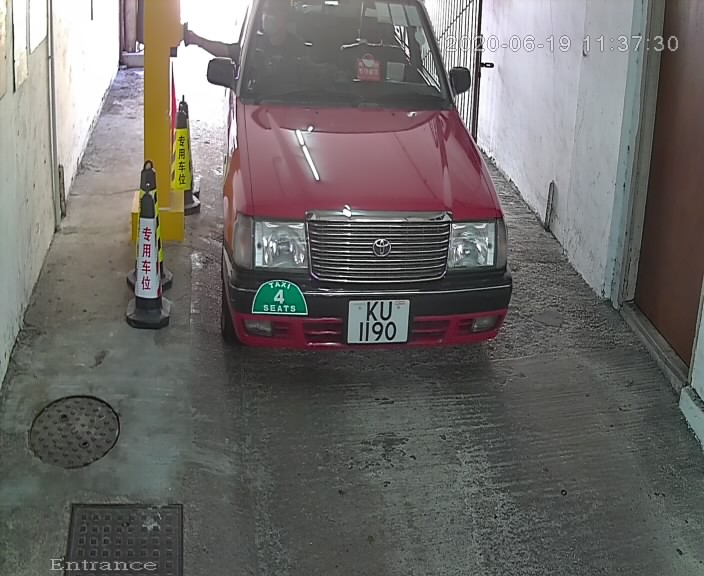taxi: (189, 2, 523, 379)
taxi_mark: (248, 269, 316, 327)
